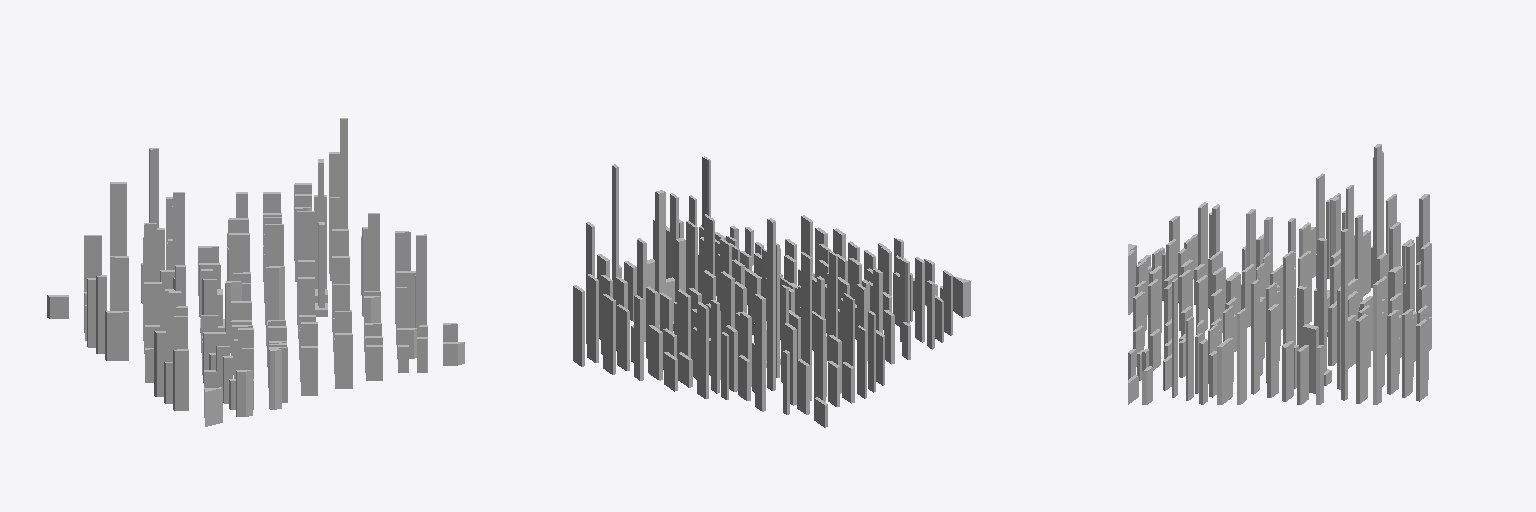
Rendered from buildings_00145.obj.
3 renders of one model, left to right at view 1: azimuth 30°, elevation 25°; view 2: azimuth 150°, elevation 25°; view 3: azimuth 270°, elevation 25°, orthographic.
Bounding box in the file's own units: 1460 × 885 × 1447.